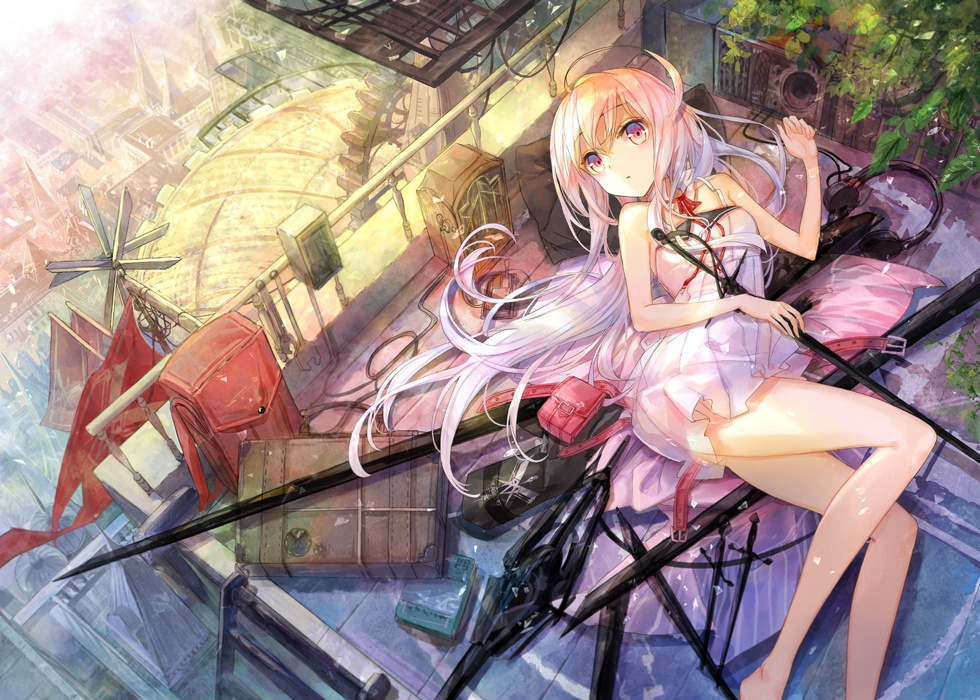纸片人正脸: (550, 55, 705, 210)
